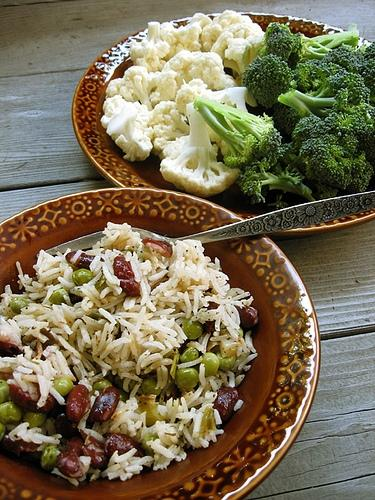broccoli: (193, 96, 293, 173), (277, 80, 375, 146), (293, 132, 355, 198), (236, 157, 316, 204), (242, 54, 294, 108), (286, 32, 333, 69), (312, 67, 366, 98), (340, 122, 374, 170), (258, 22, 299, 61), (295, 59, 346, 90), (320, 43, 367, 73), (272, 104, 300, 142), (310, 30, 360, 50), (272, 163, 302, 185), (362, 56, 375, 96), (363, 41, 374, 61)
cauliflower: (159, 102, 241, 198), (210, 23, 266, 107), (100, 96, 154, 162), (175, 78, 258, 116), (169, 49, 237, 91), (201, 10, 252, 53), (106, 66, 154, 111), (128, 21, 170, 63), (152, 100, 190, 133), (148, 70, 180, 106), (136, 40, 168, 74), (160, 22, 184, 62), (176, 20, 202, 52)
pea: (175, 368, 199, 391), (0, 400, 22, 424), (21, 410, 48, 428), (200, 352, 219, 377), (182, 318, 204, 339), (53, 377, 74, 397), (216, 350, 235, 372), (42, 445, 58, 470), (72, 268, 92, 287), (141, 378, 162, 396), (49, 288, 68, 306), (10, 298, 30, 314), (180, 346, 198, 362), (92, 379, 112, 393), (0, 379, 10, 403), (46, 417, 57, 436), (39, 424, 47, 435)
